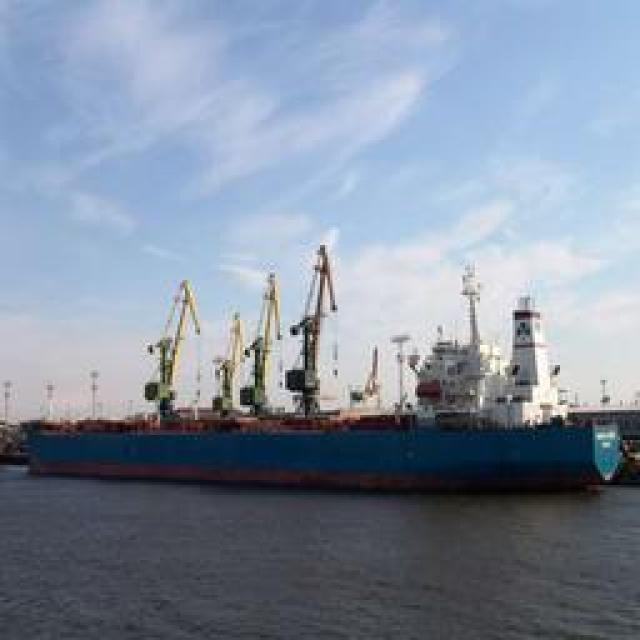ship2: (24, 282, 622, 490)
